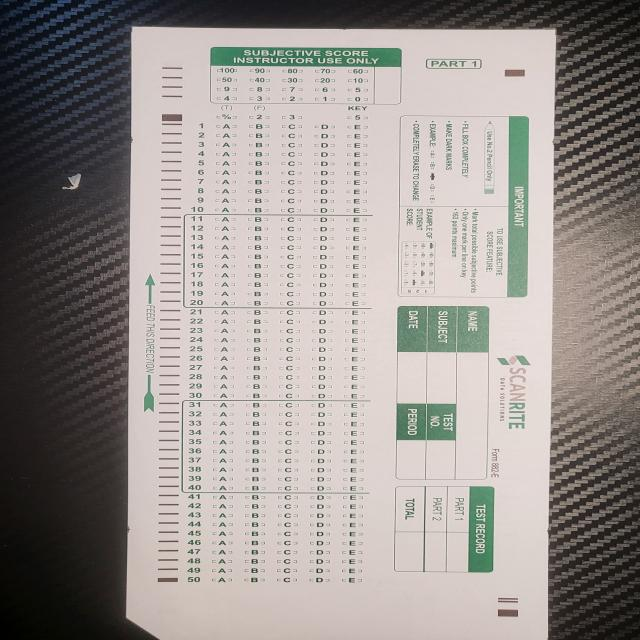scantron: (125, 26, 556, 640)
